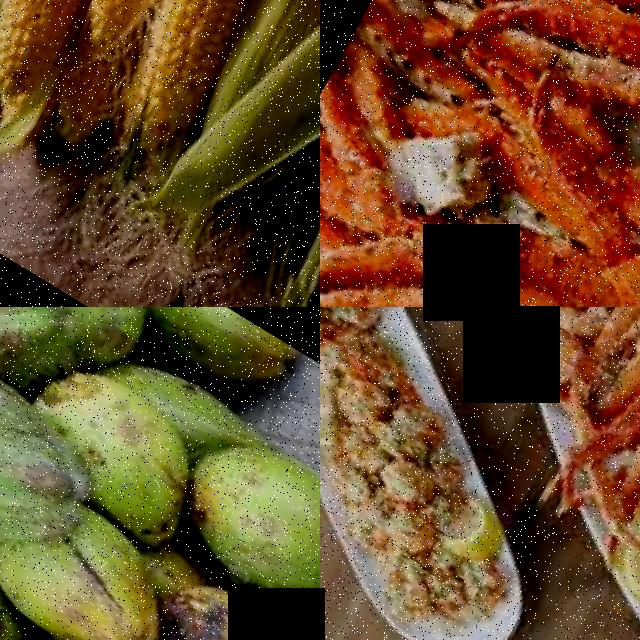coconut: (22, 339, 220, 524), (166, 404, 320, 614), (0, 307, 110, 588), (11, 476, 196, 640)
corn: (85, 0, 277, 181), (0, 0, 126, 110)
crab: (320, 0, 640, 307), (396, 0, 640, 264), (320, 125, 640, 307), (564, 334, 640, 504)
